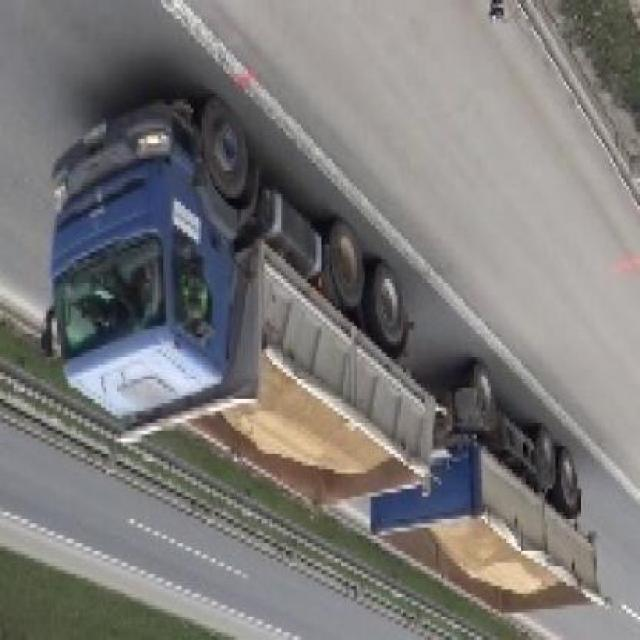truck: (38, 95, 599, 640)
